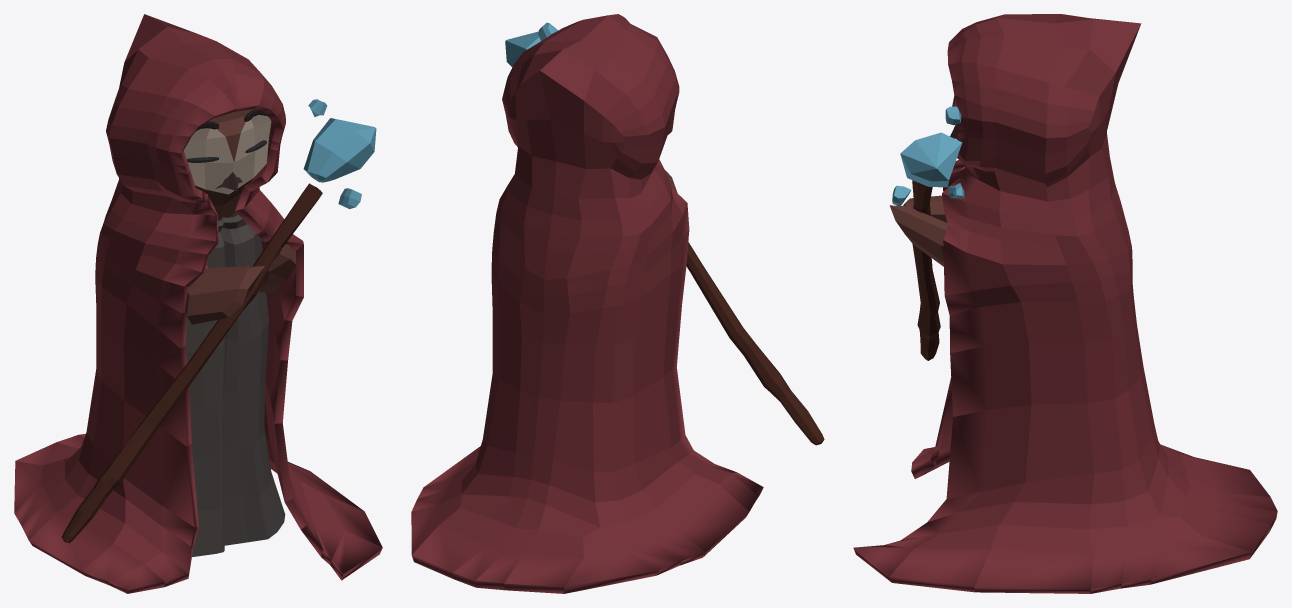
File: 3D_Model_Warmage_v4.fbx
3 views of the same model, side by side, from view 1: azimuth 30°, elevation 25°; view 2: azimuth 150°, elevation 25°; view 3: azimuth 270°, elevation 25° (orthographic). The views are drawn at different scales.
Parts seen in each view (by area): view 1: Warmage; view 2: Warmage; view 3: Warmage.
Boxes of the visible parts, bbox=[...] form: Warmage: bbox=[14, 14, 382, 593]; Warmage: bbox=[411, 14, 824, 593]; Warmage: bbox=[853, 14, 1277, 593].
Bounding box in the file's own units: 753 × 1073 × 815.
